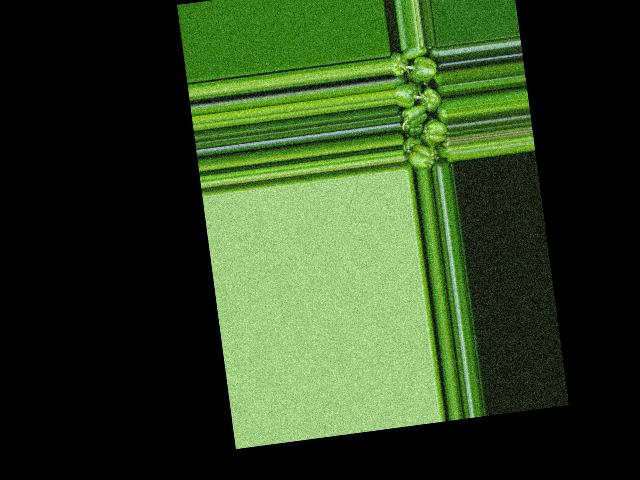bell_pepper: (390, 45, 454, 172)
